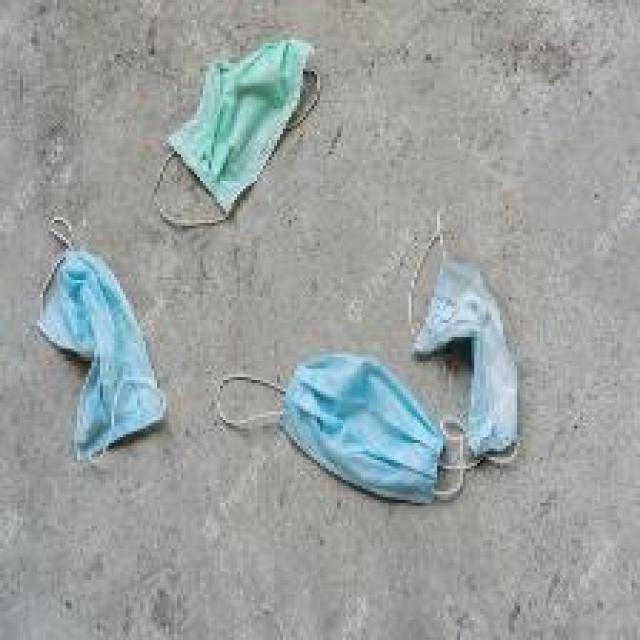Mask: (204, 352, 462, 538), (392, 241, 556, 490), (20, 213, 174, 455), (146, 32, 320, 221)
